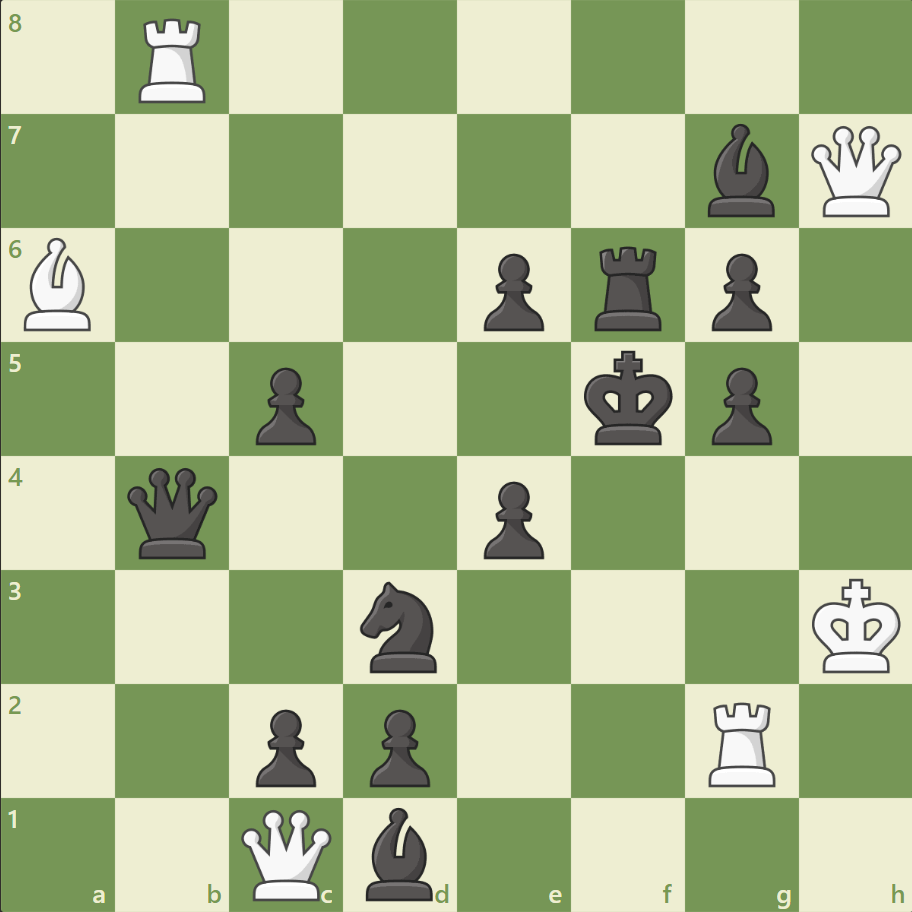B: (17, 233, 101, 336)
K: (806, 571, 906, 679)
Q: (805, 122, 904, 222), (237, 804, 336, 903)
R: (700, 693, 783, 790), (133, 12, 215, 109)
b: (358, 801, 442, 904), (698, 120, 782, 222)
k: (579, 344, 679, 452)
n: (351, 575, 449, 677)
p: (474, 246, 549, 337), (701, 246, 776, 337), (247, 359, 322, 450), (701, 359, 776, 450), (474, 473, 549, 564), (247, 700, 322, 791), (361, 700, 435, 791)
q: (124, 463, 223, 562)
r: (587, 239, 670, 336)
